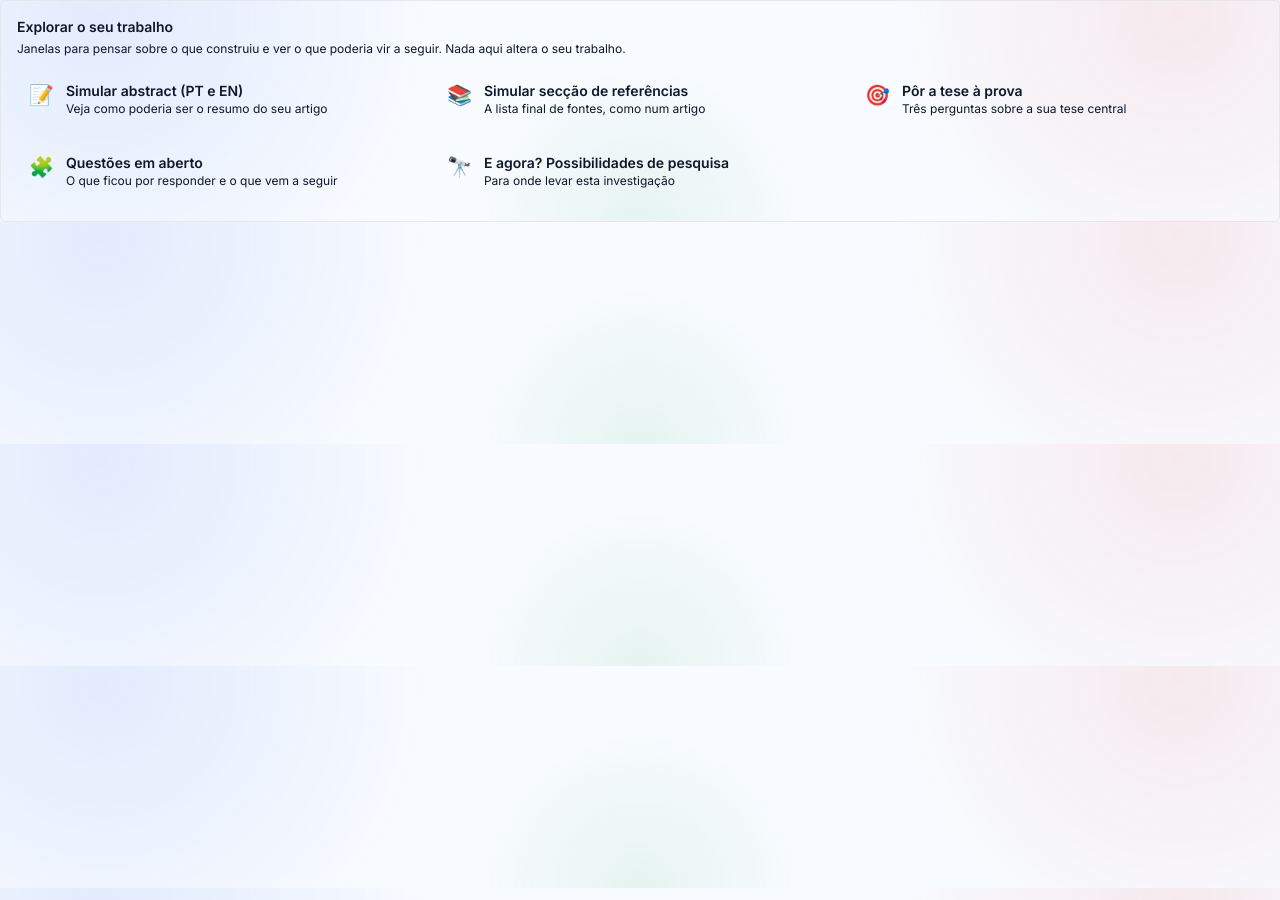
Test: Step 9 exploration pop-ups › shows the simulated reference section from the real sources
Click the button "Simular secção de referências".
click(640, 101)  # box [435,69,845,133]
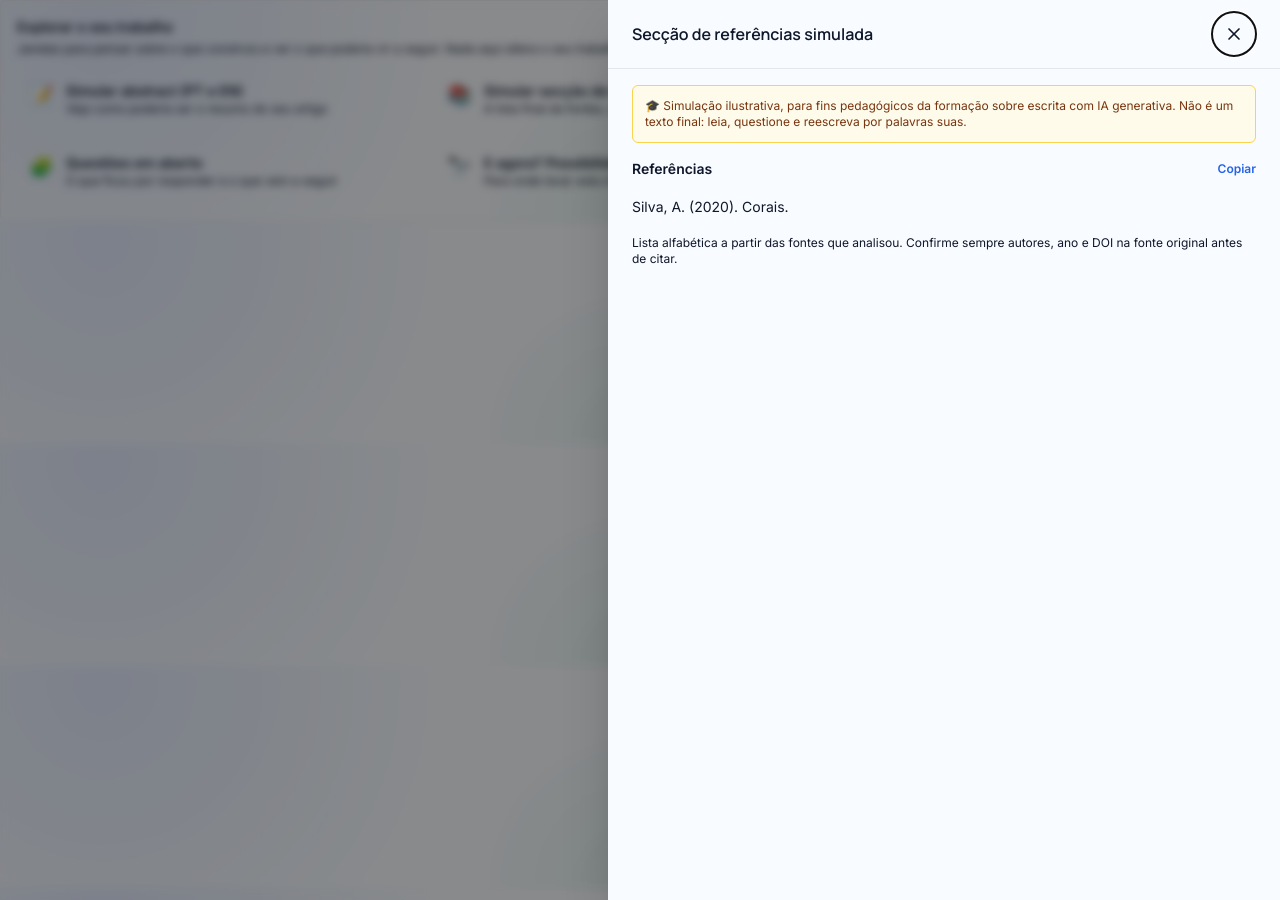
Expected: the text "pedagógicos" is shown, [645,98,1233,129]
Expected: the list item "Silva, A. (2020). Corais." is shown, [632,198,789,215]
